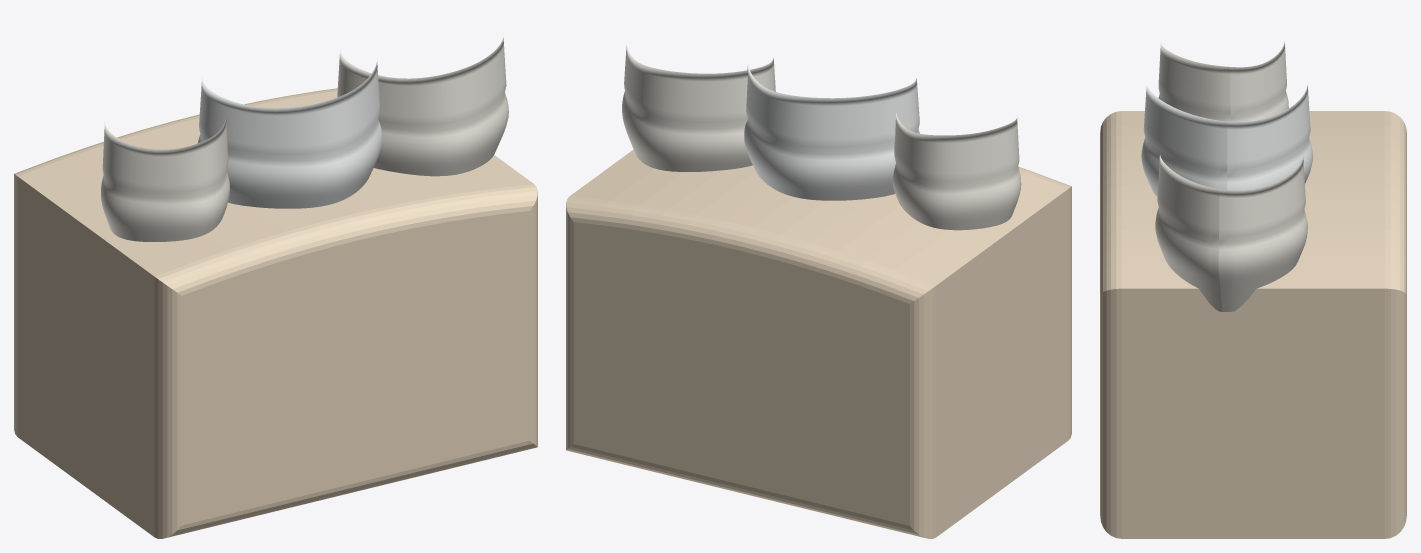
The model's file is dental-crowns-prosthodontics.glb.
3 renders of one model, left to right at view 1: azimuth 30°, elevation 25°; view 2: azimuth 150°, elevation 25°; view 3: azimuth 270°, elevation 25°, orthographic. The views are drawn at different scales.
Visible parts, largest first — view 1: Mesh_Alveolar_Housing, Mesh_Ceramic_Crown, Mesh_Adjacent_Second_Molar, Mesh_Adjacent_Premolar; view 2: Mesh_Alveolar_Housing, Mesh_Ceramic_Crown, Mesh_Adjacent_Second_Molar, Mesh_Adjacent_Premolar; view 3: Mesh_Alveolar_Housing, Mesh_Adjacent_Second_Molar, Mesh_Ceramic_Crown, Mesh_Adjacent_Premolar.
Boxes of the visible parts, box(x1,y1,x2,y2) form: Mesh_Alveolar_Housing: box(14, 88, 537, 538); Mesh_Ceramic_Crown: box(197, 60, 382, 208); Mesh_Adjacent_Second_Molar: box(337, 37, 508, 176); Mesh_Adjacent_Premolar: box(101, 116, 229, 241); Mesh_Alveolar_Housing: box(566, 149, 1071, 538); Mesh_Ceramic_Crown: box(744, 62, 919, 200); Mesh_Adjacent_Second_Molar: box(622, 42, 775, 171); Mesh_Adjacent_Premolar: box(892, 113, 1021, 230); Mesh_Alveolar_Housing: box(1100, 111, 1406, 538); Mesh_Adjacent_Second_Molar: box(1155, 155, 1307, 311); Mesh_Ceramic_Crown: box(1141, 84, 1312, 196); Mesh_Adjacent_Premolar: box(1158, 41, 1288, 121).
Size of the model in its own units: 5.08 by 4.63 by 3.5.
